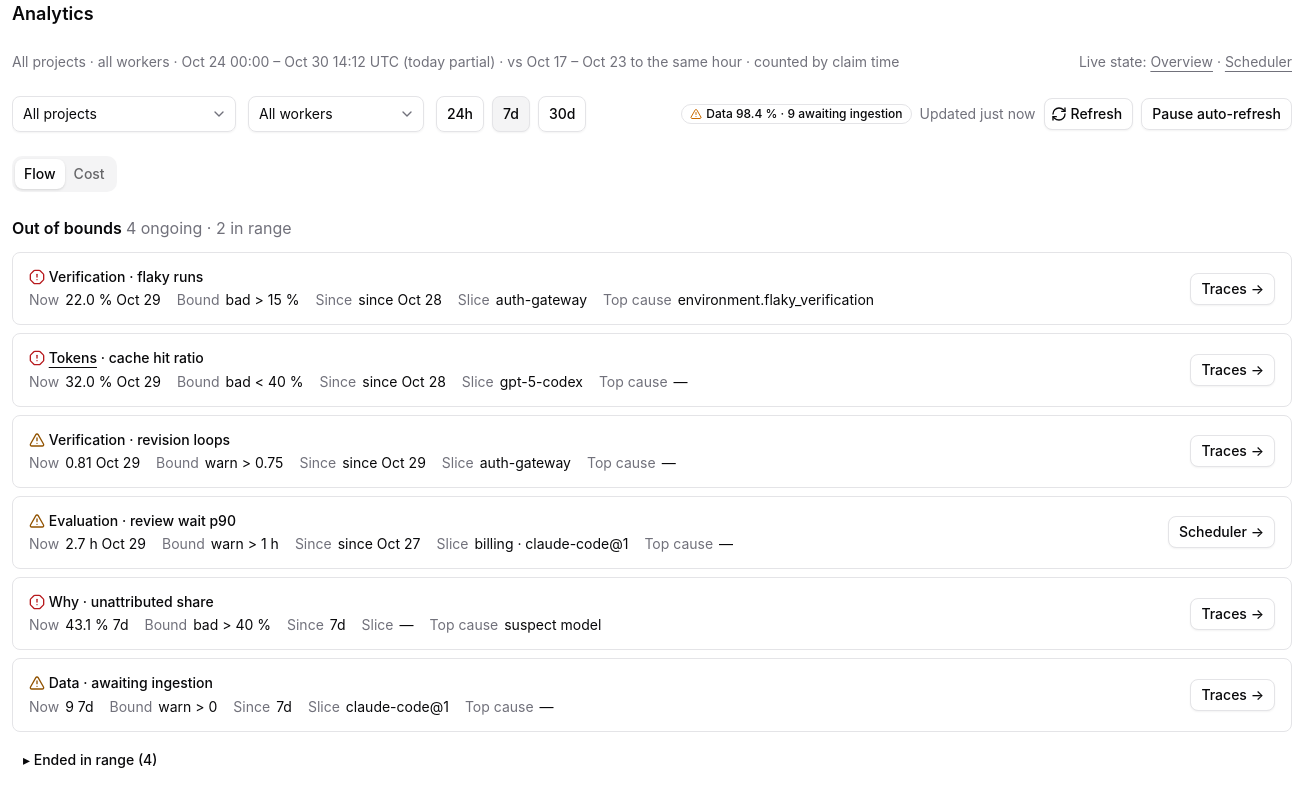
Test case: AnalyticsScreen › writes the worker to the URL and reads again
Expected: the text "All projects · all workers · Oct 24 00:00 – Oct 30 14:12 UTC (today partial) · vs Oct 17 – Oct 23 to the same hour · cou" is shown, x1=12 y1=53 x2=899 y2=70
Click the dropdown labelled "worker" at {"x": 336, "y": 114}, box x1=248 y1=96 x2=424 y2=132
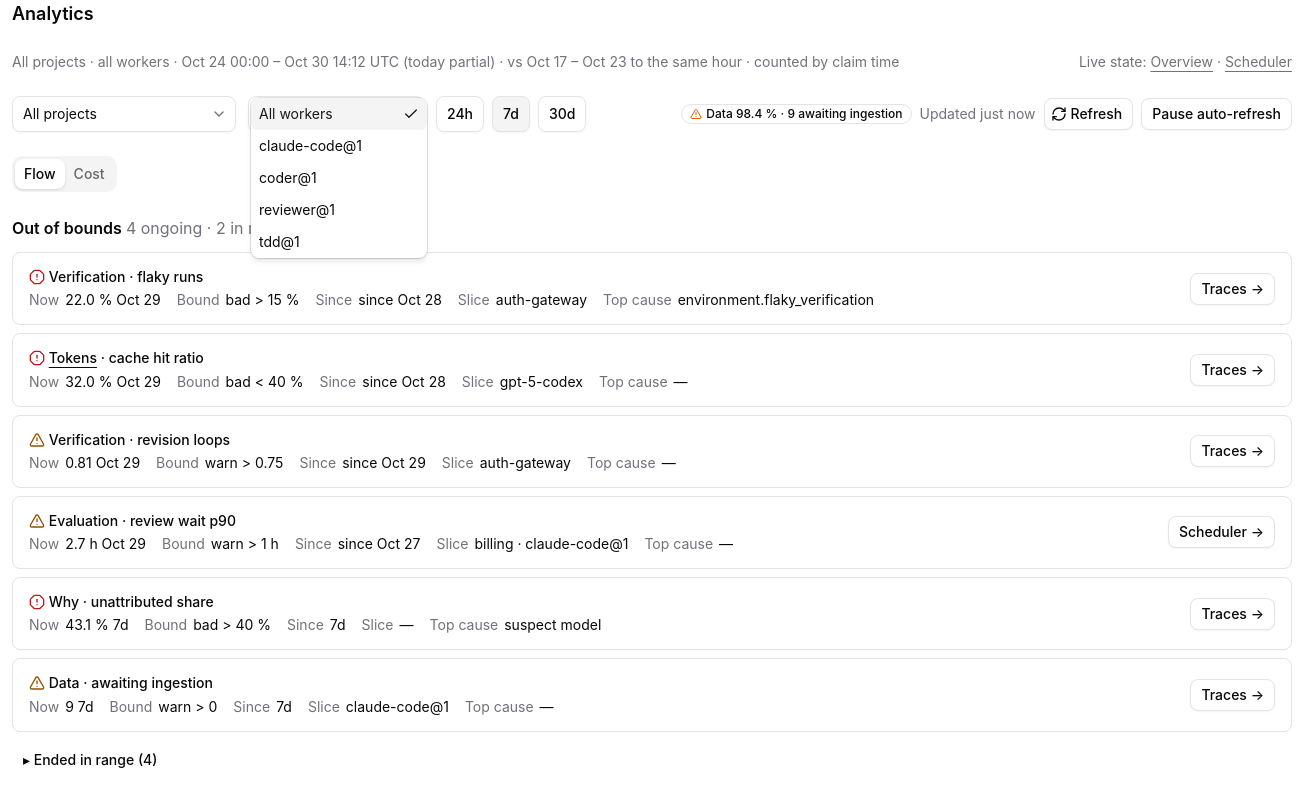
Click the option "coder@1" at {"x": 288, "y": 178}, box x1=259 y1=169 x2=317 y2=186
(page scrolled)
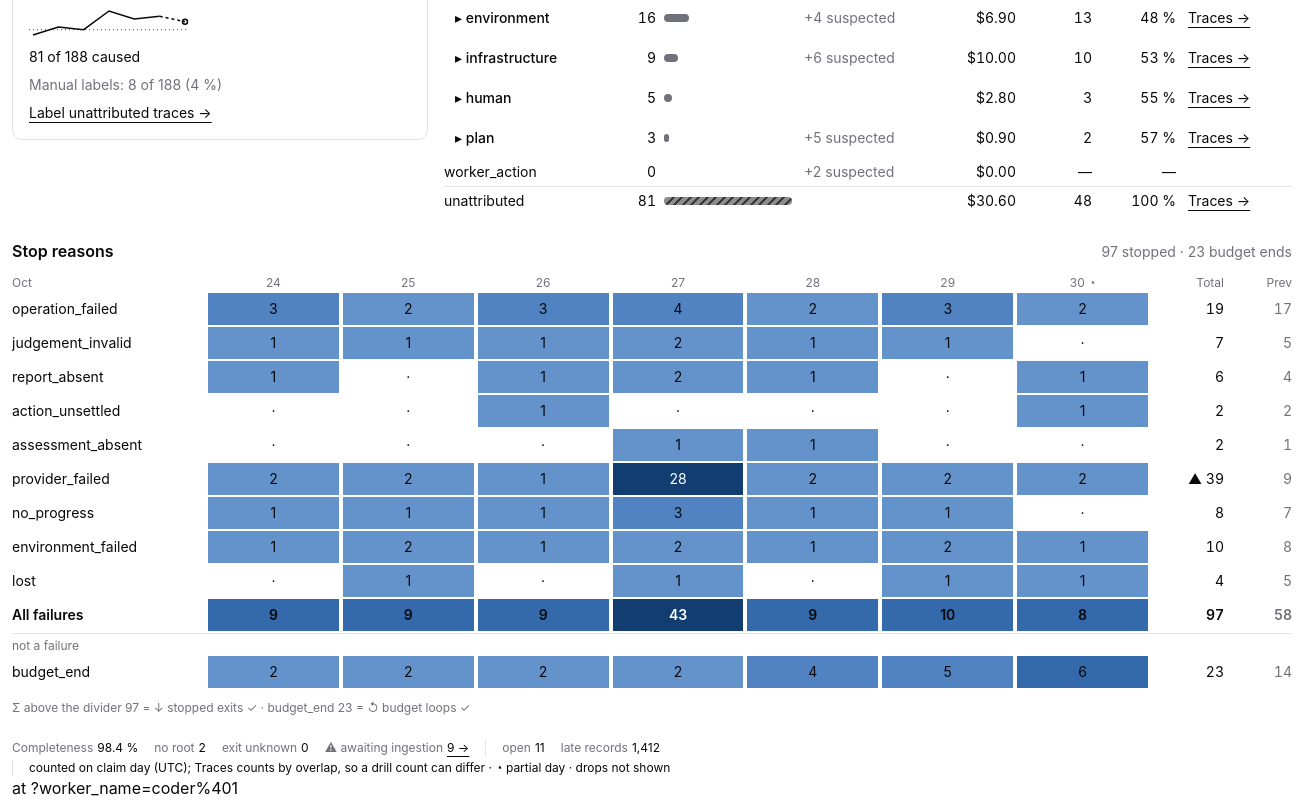
Result: the text "at ?worker_name=coder%401" is shown at x1=12 y1=778 x2=238 y2=798
